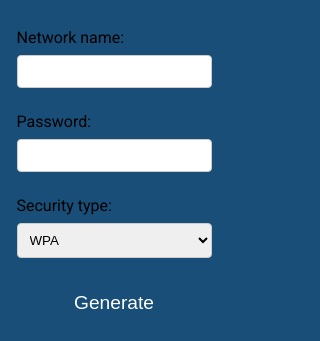
WifiForm component › should render error message
This screenshot has width=320, height=341.
Click the button "Generate".
click(114, 303)  # box [16,282,212,324]
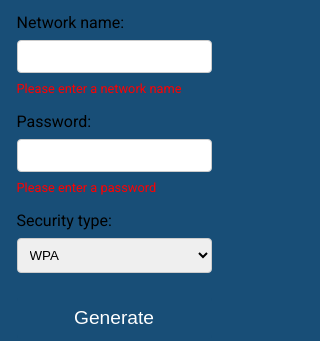
Result: the text "Please enter a network name" is shown at [16,81,182,96]
Result: the text "Please enter a password" is shown at [16,180,156,195]
